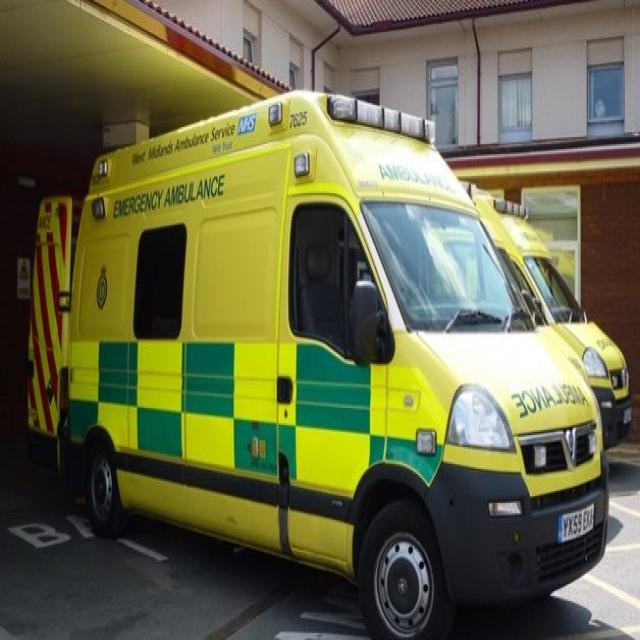Ambulance: (26, 88, 610, 638), (24, 193, 80, 474)
